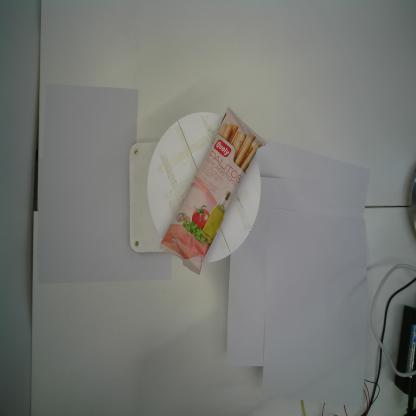Dessert: (158, 104, 268, 276)
